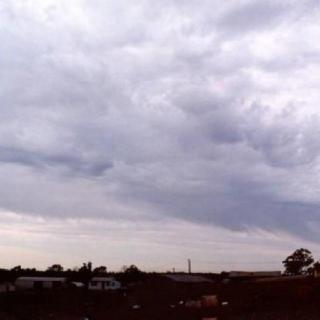Cirrostratus: (0, 0, 320, 268)
